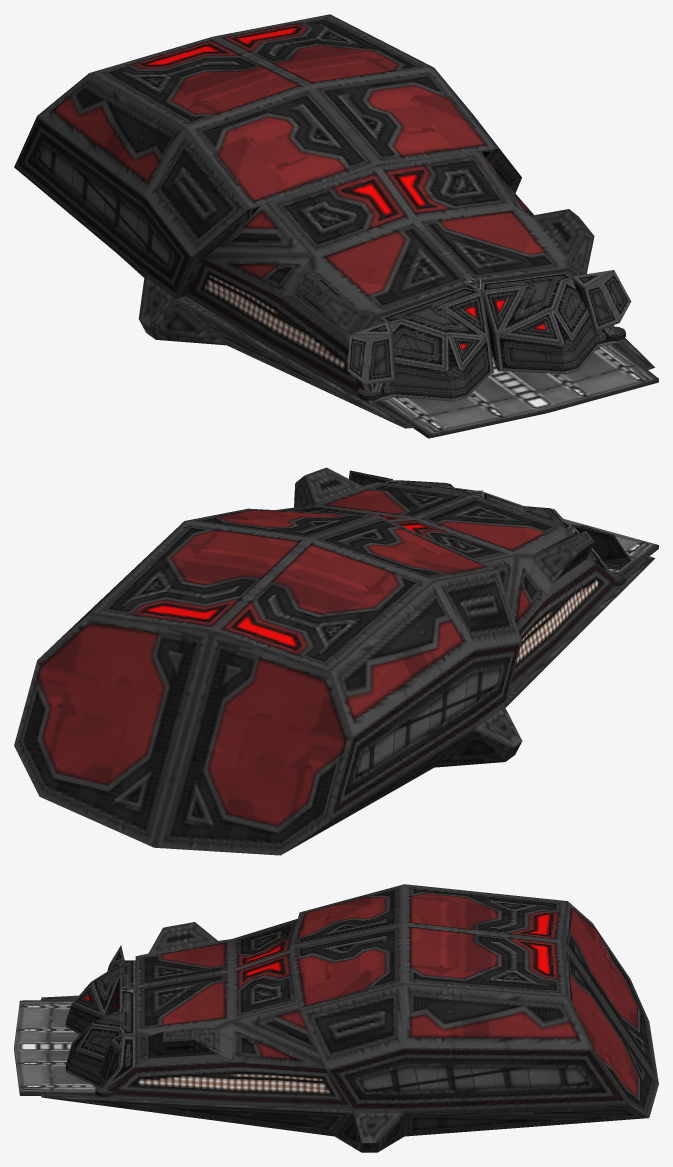
The model's file is BFP_CarrierBay01.FBX.
3 views of the same model, one above another, from view 1: azimuth 30°, elevation 25°; view 2: azimuth 150°, elevation 25°; view 3: azimuth 270°, elevation 25° (orthographic). The views are drawn at different scales.
Parts seen in each view (by area): view 1: BFP_CarrierBay01, CarrierBayDoor_Right, CarrierBayDoor_Left; view 2: BFP_CarrierBay01, CarrierBayDoor_Right, CarrierBayDoor_Left; view 3: BFP_CarrierBay01, CarrierBayDoor_Left, CarrierBayDoor_Right.
Part boxes in pixels (x1,y1,x2,y2): BFP_CarrierBay01: (14, 14, 658, 438); CarrierBayDoor_Right: (347, 287, 493, 401); CarrierBayDoor_Left: (482, 270, 631, 374); BFP_CarrierBay01: (14, 467, 658, 855); CarrierBayDoor_Right: (482, 491, 631, 586); CarrierBayDoor_Left: (349, 470, 475, 493); BFP_CarrierBay01: (14, 884, 658, 1152); CarrierBayDoor_Left: (65, 989, 135, 1096); CarrierBayDoor_Right: (65, 945, 135, 1034).
Size of the model in its own units: 415 by 233 by 755.
1 material, 1 textured.
